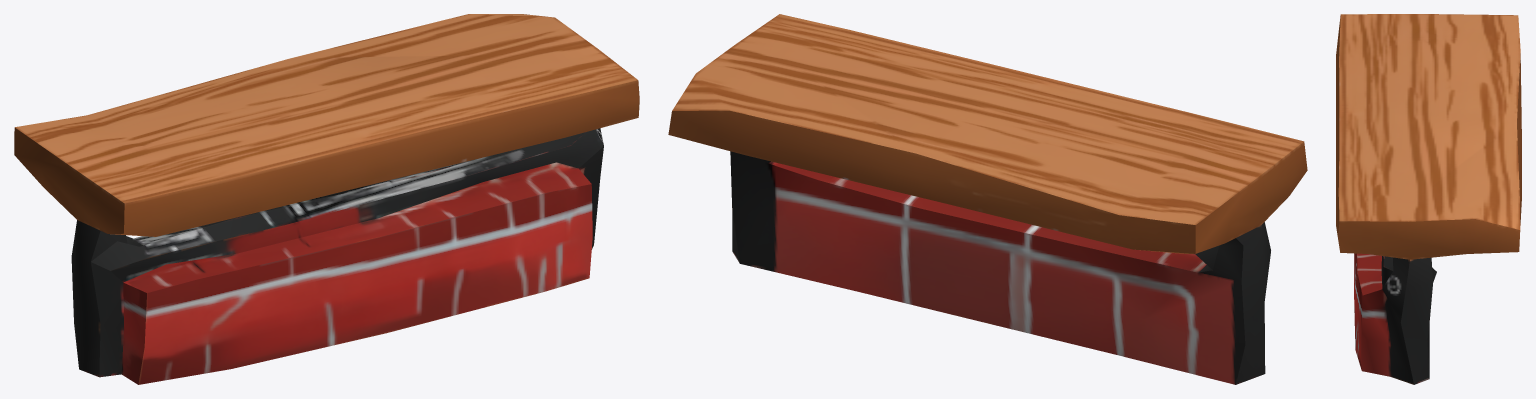
Rendered from brickloft-pipe-shelf.glb.
3 views of the same model, side by side, from view 1: azimuth 30°, elevation 25°; view 2: azimuth 150°, elevation 25°; view 3: azimuth 270°, elevation 25° (orthographic). The views are drawn at different scales.
Visible parts, largest first — view 1: geometry_0; view 2: geometry_0; view 3: geometry_0.
Boxes of the visible parts, x1,y1,x2,y2 form: geometry_0: [14, 14, 639, 384]; geometry_0: [668, 14, 1307, 384]; geometry_0: [1336, 14, 1521, 384].
Bounding box in the file's own units: 1 × 0.3789 × 0.3749.
1 material, 1 textured.
